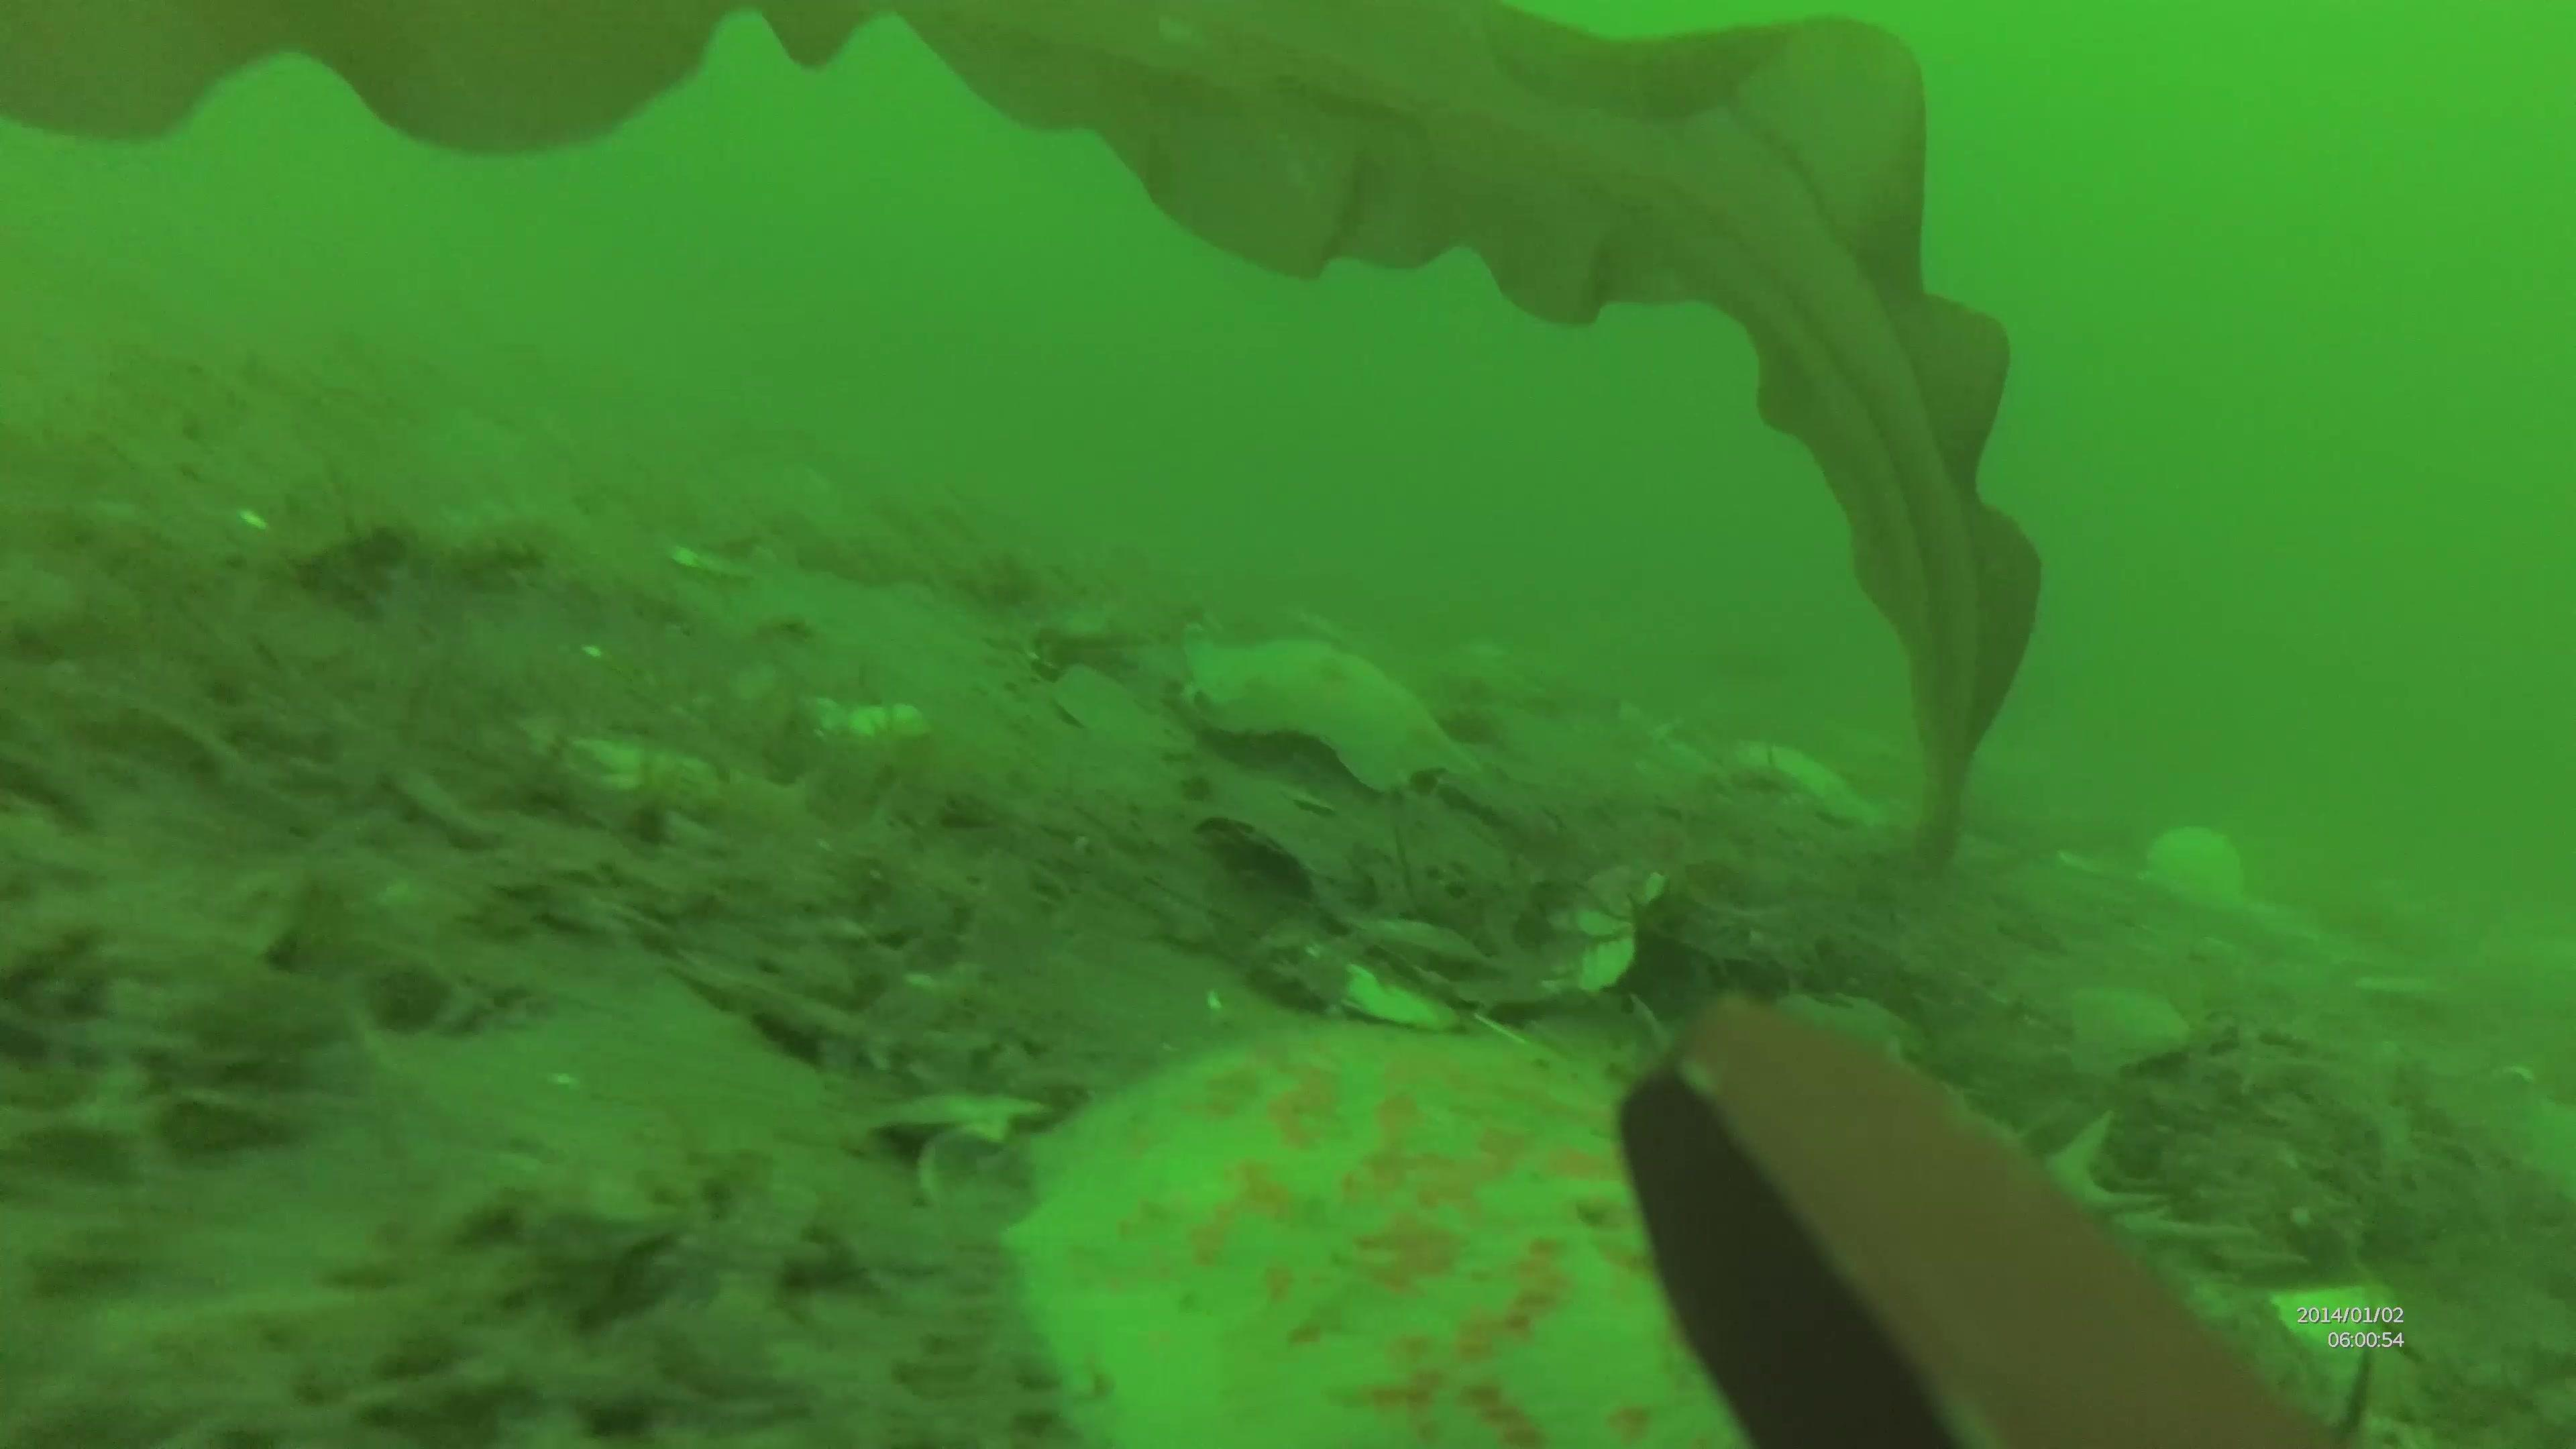starfish: (1000, 1010, 1796, 1449), (1177, 633, 1463, 793), (1737, 740, 1884, 832)
